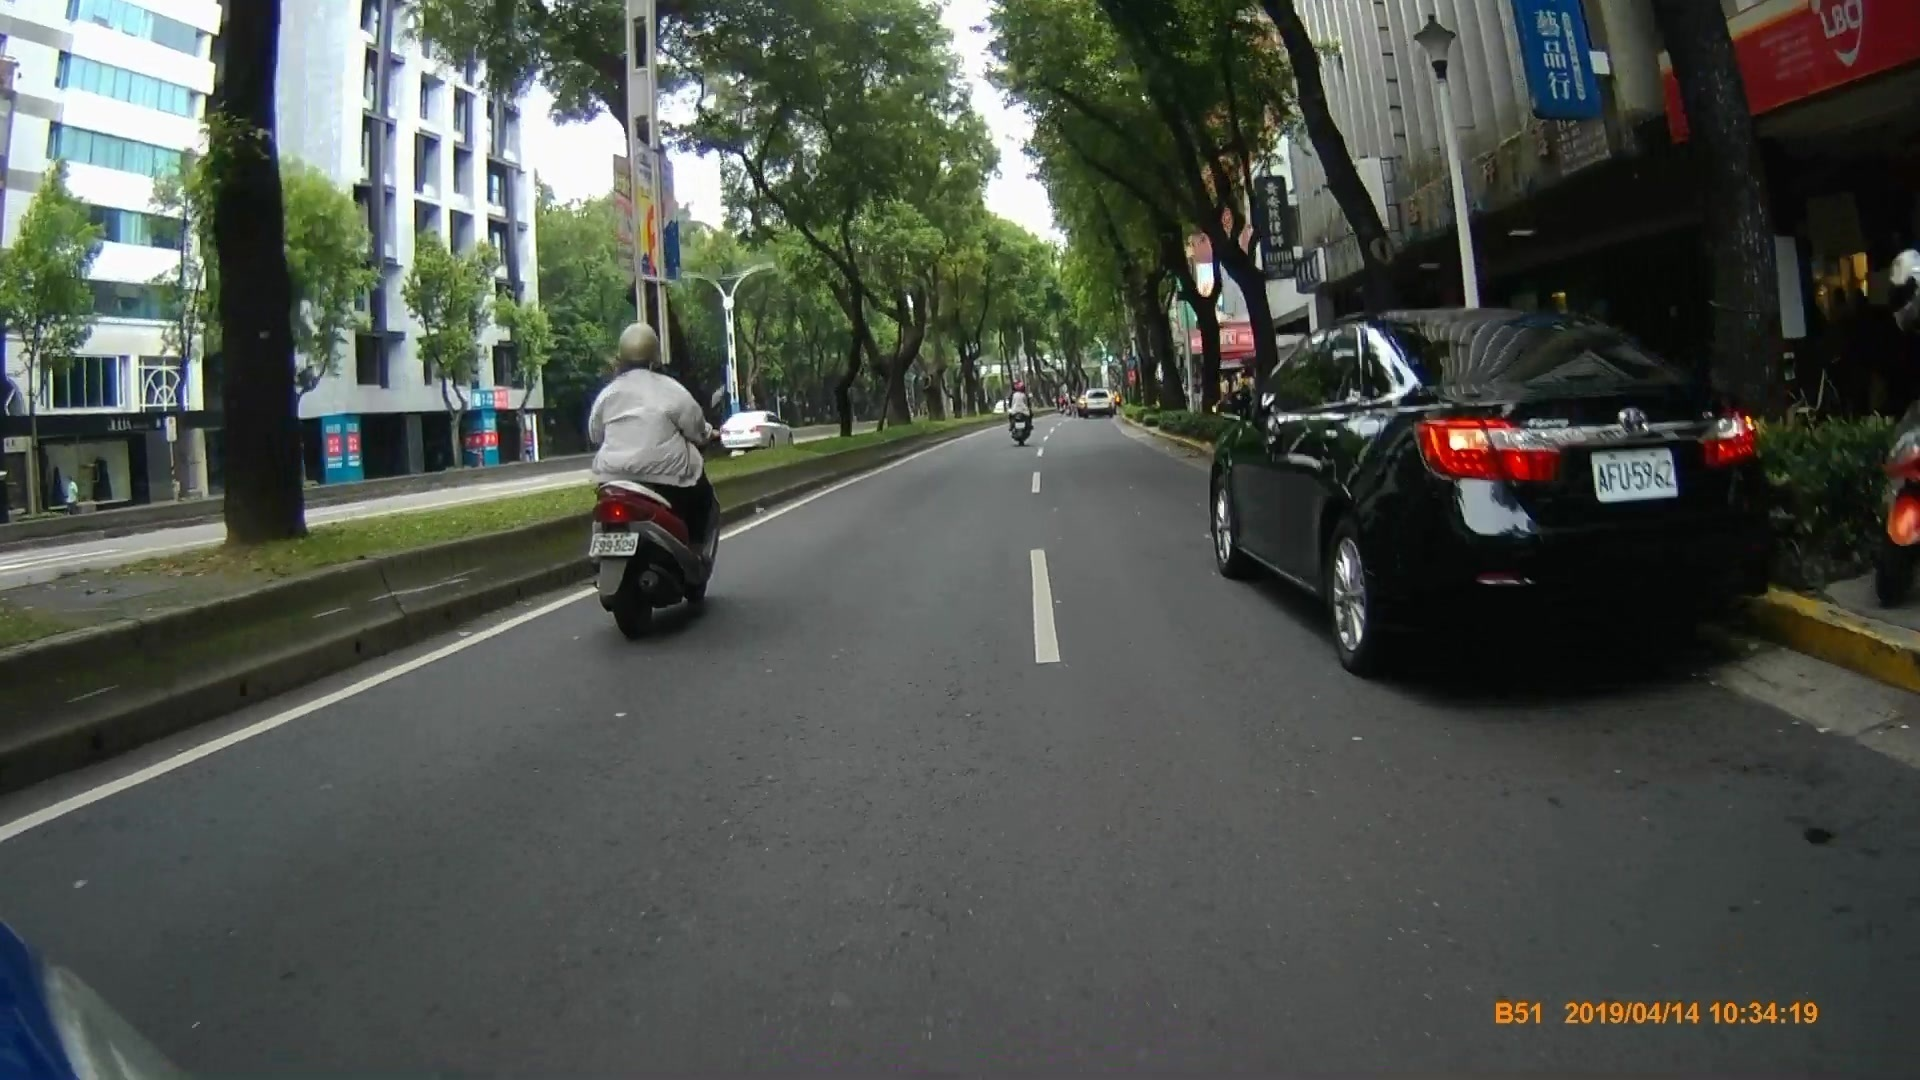License_plate: (1589, 447, 1686, 504), (589, 527, 641, 557)
